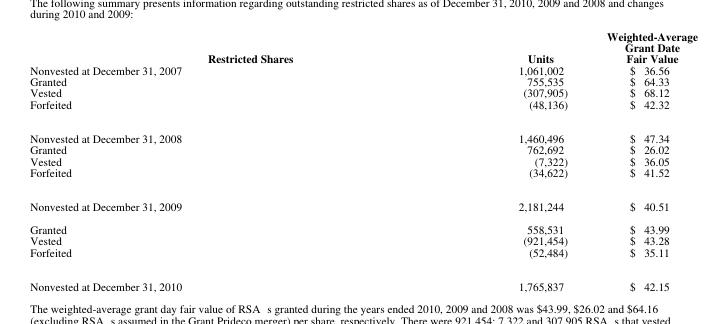table: (29, 28, 696, 292)
table column: (29, 28, 405, 292), (405, 28, 586, 292), (586, 28, 696, 292)
table column header: (29, 28, 696, 64)
table row: (29, 28, 696, 64), (29, 189, 696, 217), (29, 268, 696, 292), (29, 98, 696, 121), (29, 166, 696, 189), (29, 121, 696, 143), (29, 246, 696, 268), (29, 217, 696, 234), (29, 75, 696, 87), (29, 143, 696, 155), (29, 234, 696, 246), (29, 64, 696, 75), (29, 87, 696, 98), (29, 155, 696, 166)
